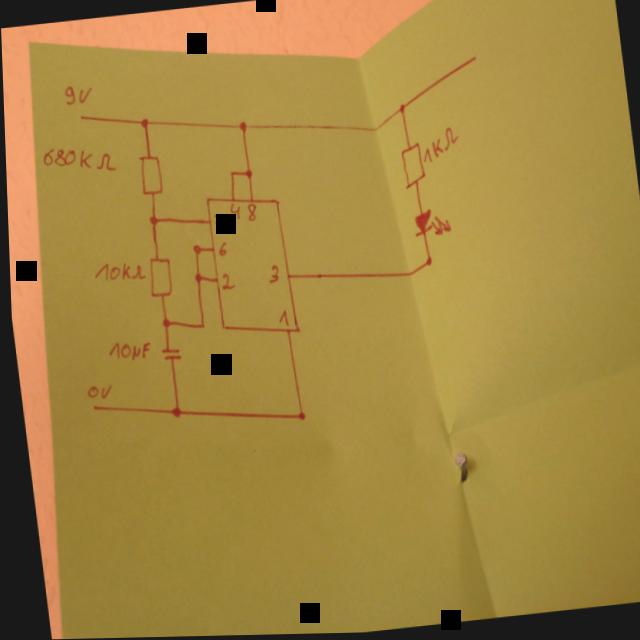capacitor: (156, 344, 178, 362)
diode: (408, 207, 449, 238)
junction: (164, 404, 178, 419), (144, 213, 156, 226), (136, 114, 147, 128), (156, 315, 167, 327), (420, 256, 431, 268), (188, 242, 198, 255), (235, 119, 245, 132), (394, 102, 404, 114), (292, 410, 302, 421), (241, 168, 250, 179), (189, 271, 198, 282), (194, 321, 202, 329), (225, 169, 232, 177)
resistor: (396, 142, 423, 190), (134, 152, 162, 196), (142, 254, 169, 297)
terminal: (463, 51, 478, 66), (85, 401, 94, 412), (75, 112, 83, 120)
text: (38, 140, 114, 176), (416, 126, 458, 164), (88, 257, 143, 284), (102, 336, 149, 363), (60, 81, 92, 106), (81, 382, 109, 399), (224, 200, 239, 220), (216, 272, 232, 289), (263, 263, 276, 283), (273, 309, 286, 328), (209, 211, 222, 230), (242, 202, 255, 221), (213, 240, 224, 255)
